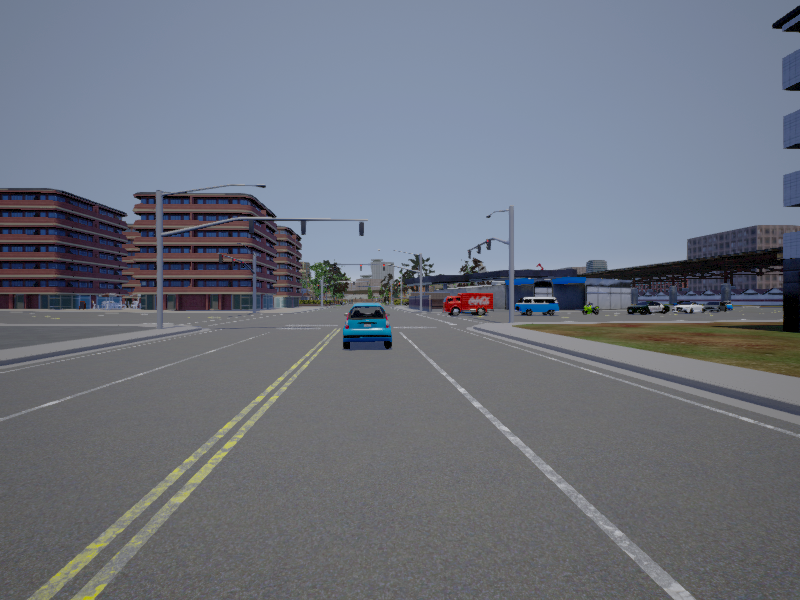Benign: (345, 303, 393, 353), (442, 292, 494, 316), (516, 296, 562, 317), (628, 301, 670, 316), (674, 301, 704, 315), (704, 299, 728, 313)
